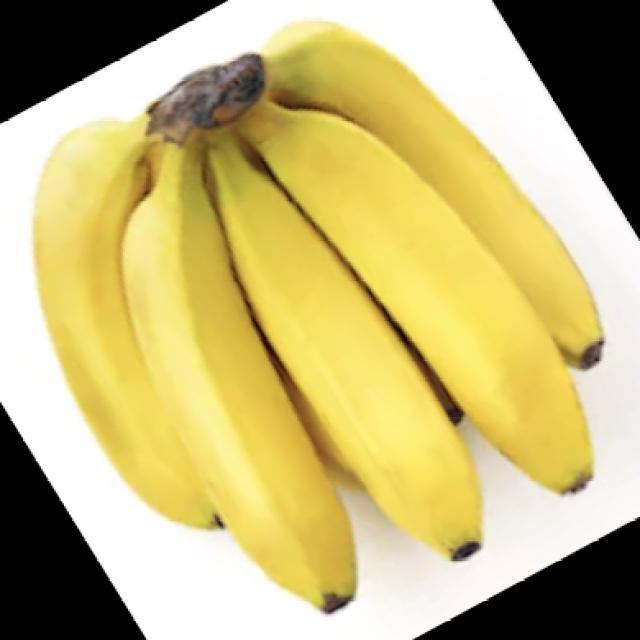Banana: (30, 19, 605, 614)
